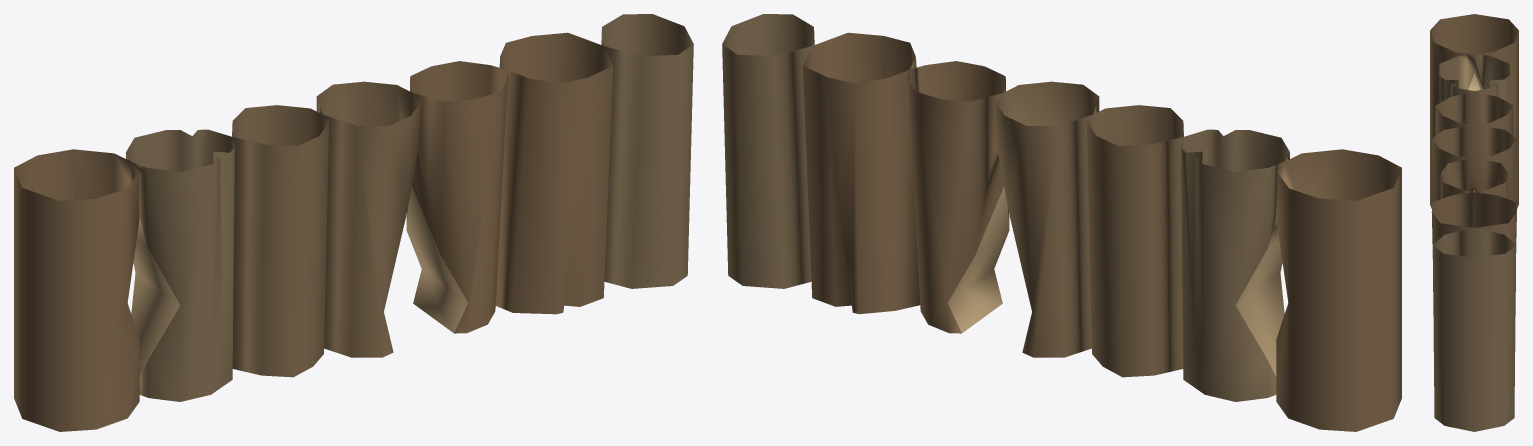
The model's file is rpgpp_av_wall_04_3x1_a.fbx.
3 views of the same model, side by side, from view 1: azimuth 30°, elevation 25°; view 2: azimuth 150°, elevation 25°; view 3: azimuth 270°, elevation 25° (orthographic). The views are drawn at different scales.
Parts seen in each view (by area): view 1: rpgpp_av_wall_04_3x1_a; view 2: rpgpp_av_wall_04_3x1_a; view 3: rpgpp_av_wall_04_3x1_a.
Boxes of the visible parts, x1=… form: rpgpp_av_wall_04_3x1_a: x1=14, y1=14, x2=693, y2=431; rpgpp_av_wall_04_3x1_a: x1=722, y1=14, x2=1401, y2=431; rpgpp_av_wall_04_3x1_a: x1=1430, y1=14, x2=1518, y2=431.
Bounding box in the file's own units: 3 × 1 × 0.4626.
